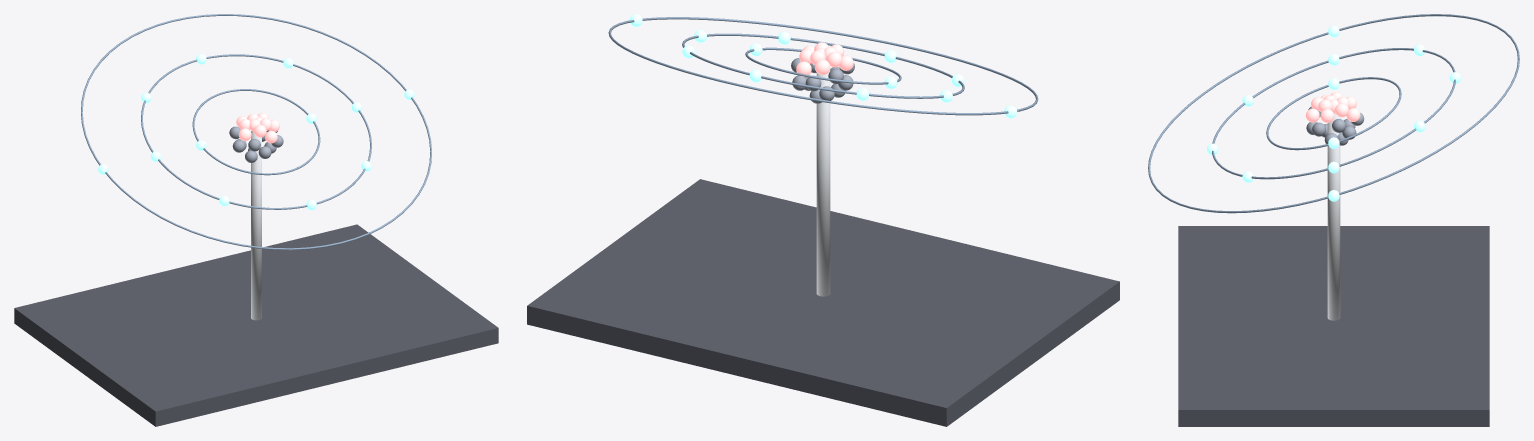
Rendered from magnesium-atom.glb.
The picture shows the model from 3 angles, left to right: view 1: azimuth 30°, elevation 25°; view 2: azimuth 150°, elevation 25°; view 3: azimuth 270°, elevation 25°; orthographic projection. The views are drawn at different scales.
Parts seen in each view (by area): view 1: magnesium-atom_Plinth, magnesium-atom_Ring_M, magnesium-atom_Stand_Post, magnesium-atom_Ring_L, magnesium-atom_Ring_K; view 2: magnesium-atom_Plinth, magnesium-atom_Stand_Post, magnesium-atom_Ring_M, magnesium-atom_Ring_L, magnesium-atom_Ring_K; view 3: magnesium-atom_Plinth, magnesium-atom_Ring_M, magnesium-atom_Stand_Post, magnesium-atom_Ring_L, magnesium-atom_Ring_K.
Boxes of the visible parts, box(x1,y1,x2,y2) form: magnesium-atom_Plinth: box(14, 224, 498, 426); magnesium-atom_Ring_M: box(81, 14, 431, 250); magnesium-atom_Stand_Post: box(251, 131, 261, 320); magnesium-atom_Ring_L: box(141, 54, 371, 209); magnesium-atom_Ring_K: box(192, 89, 320, 175); magnesium-atom_Plinth: box(527, 179, 1119, 426); magnesium-atom_Stand_Post: box(816, 69, 830, 296); magnesium-atom_Ring_M: box(608, 17, 1038, 115); magnesium-atom_Ring_L: box(682, 33, 964, 98); magnesium-atom_Ring_K: box(745, 47, 901, 84); magnesium-atom_Plinth: box(1178, 226, 1489, 426); magnesium-atom_Ring_M: box(1148, 14, 1519, 213); magnesium-atom_Stand_Post: box(1327, 113, 1340, 320); magnesium-atom_Ring_L: box(1212, 48, 1455, 179); magnesium-atom_Ring_K: box(1266, 77, 1401, 150).
Size of the model in its own units: 0.28 by 0.1963 by 0.2391.
